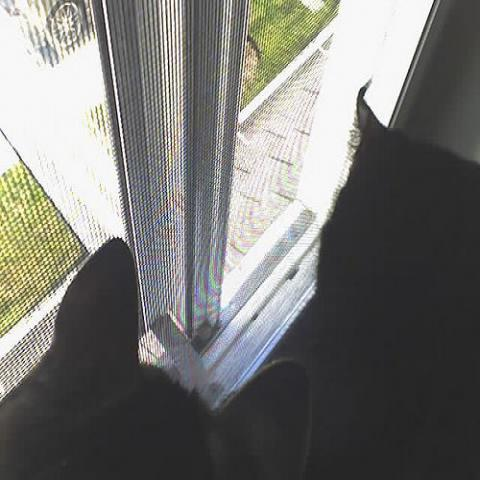car: (16, 0, 94, 44)
